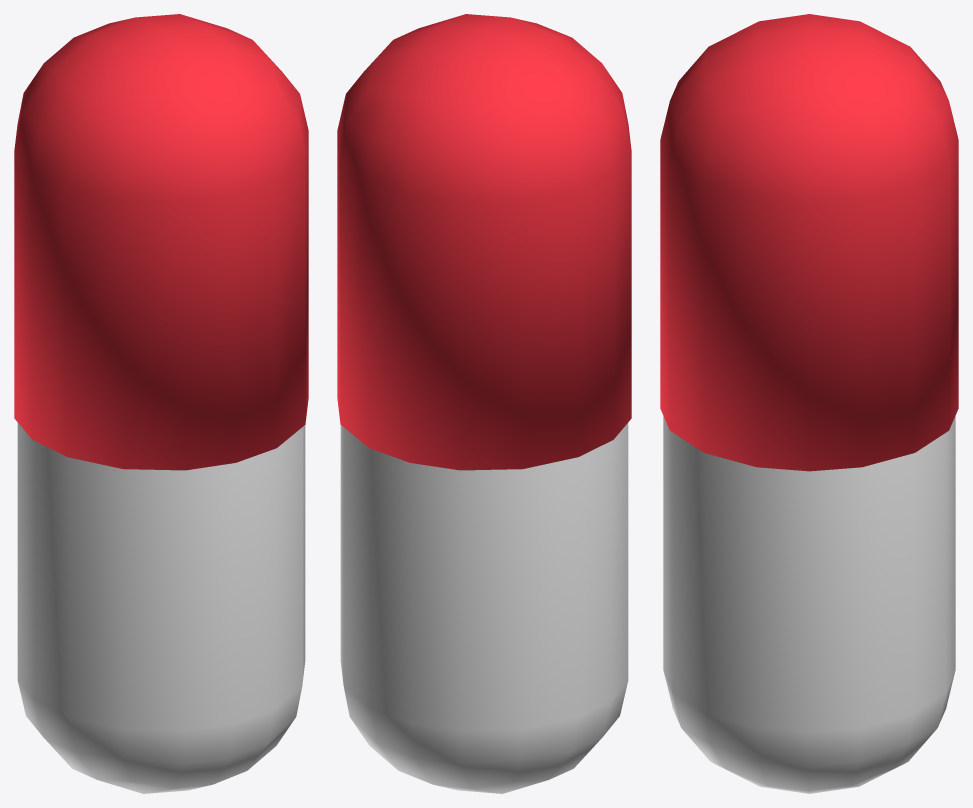
The model's file is 3D_Sibyl202604_Pill_A.fbx.
3 renders of one model, left to right at view 1: azimuth 30°, elevation 25°; view 2: azimuth 150°, elevation 25°; view 3: azimuth 270°, elevation 25°, orthographic.
Parts seen in each view (by area): view 1: Pill1.003; view 2: Pill1.003; view 3: Pill1.003.
Part boxes in pixels (x1,y1,x2,y2): Pill1.003: (14,14,308,793); Pill1.003: (337,14,631,793); Pill1.003: (660,14,958,793).
Bounding box in the file's own units: 2.04 × 2.04 × 5.67.
